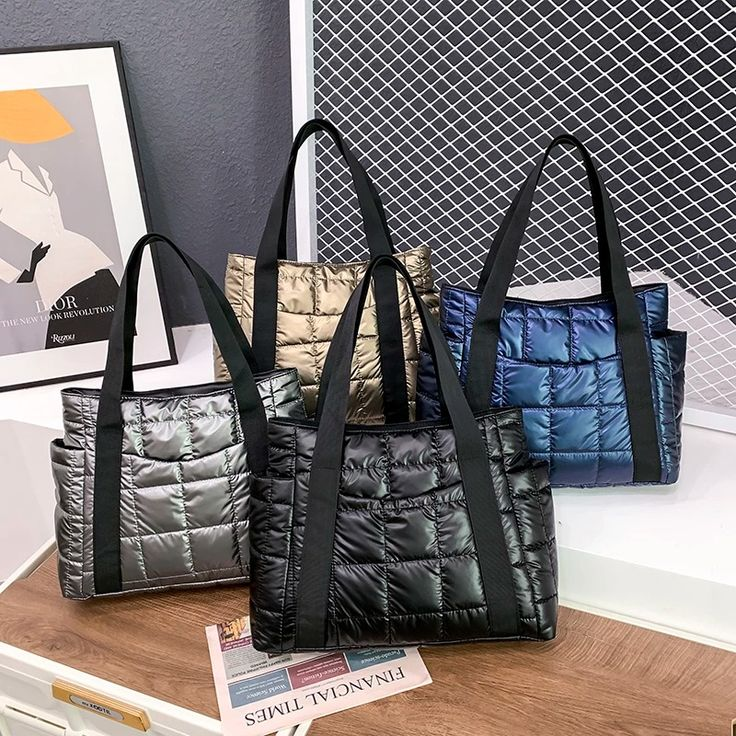nylon: (51, 117, 688, 654)
